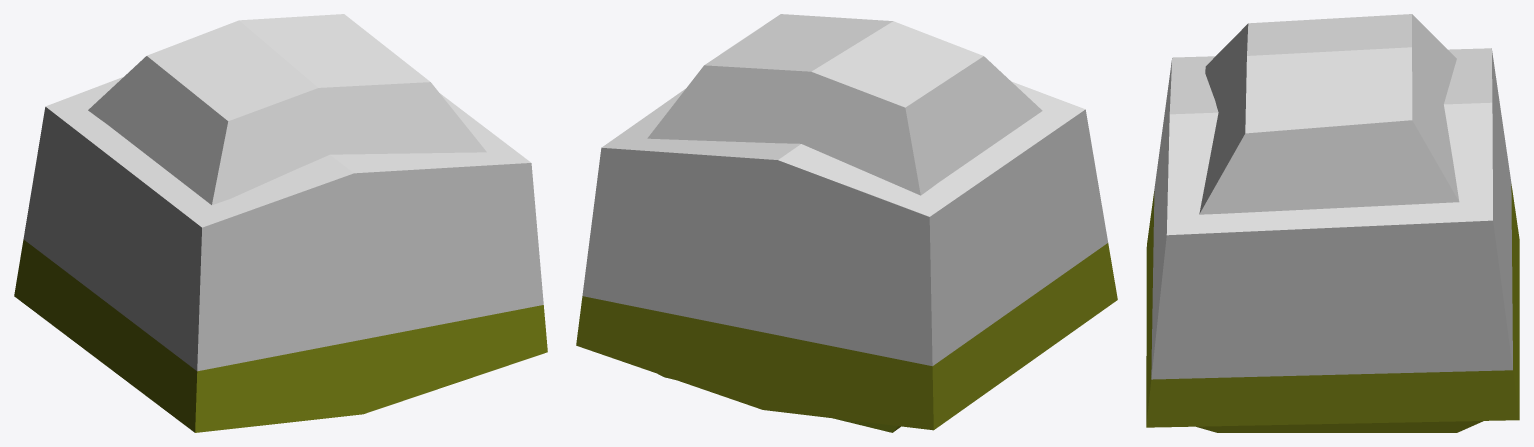
File: SF_Env_Tree_Snow_09.fbx
The picture shows the model from 3 angles, left to right: view 1: azimuth 30°, elevation 25°; view 2: azimuth 150°, elevation 25°; view 3: azimuth 270°, elevation 25°; orthographic projection. The views are drawn at different scales.
Parts seen in each view (by area): view 1: SF_Env_Tree_Snow_09; view 2: SF_Env_Tree_Snow_09; view 3: SF_Env_Tree_Snow_09.
Part boxes in pixels (box(x1,y1,x2,y2)): SF_Env_Tree_Snow_09: box(14, 14, 547, 432); SF_Env_Tree_Snow_09: box(576, 14, 1117, 432); SF_Env_Tree_Snow_09: box(1146, 14, 1519, 432).
Size of the model in its own units: 2.69 by 2.29 by 2.4.
